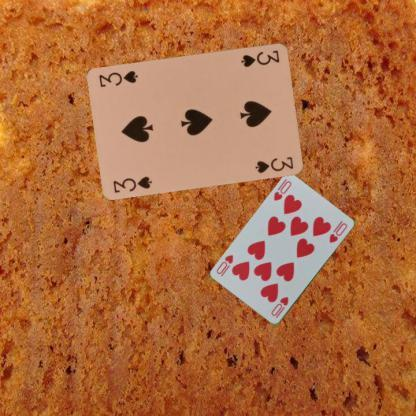10h: (268, 294, 290, 320), (271, 178, 293, 202)
3s: (111, 173, 154, 194), (238, 47, 280, 68)
